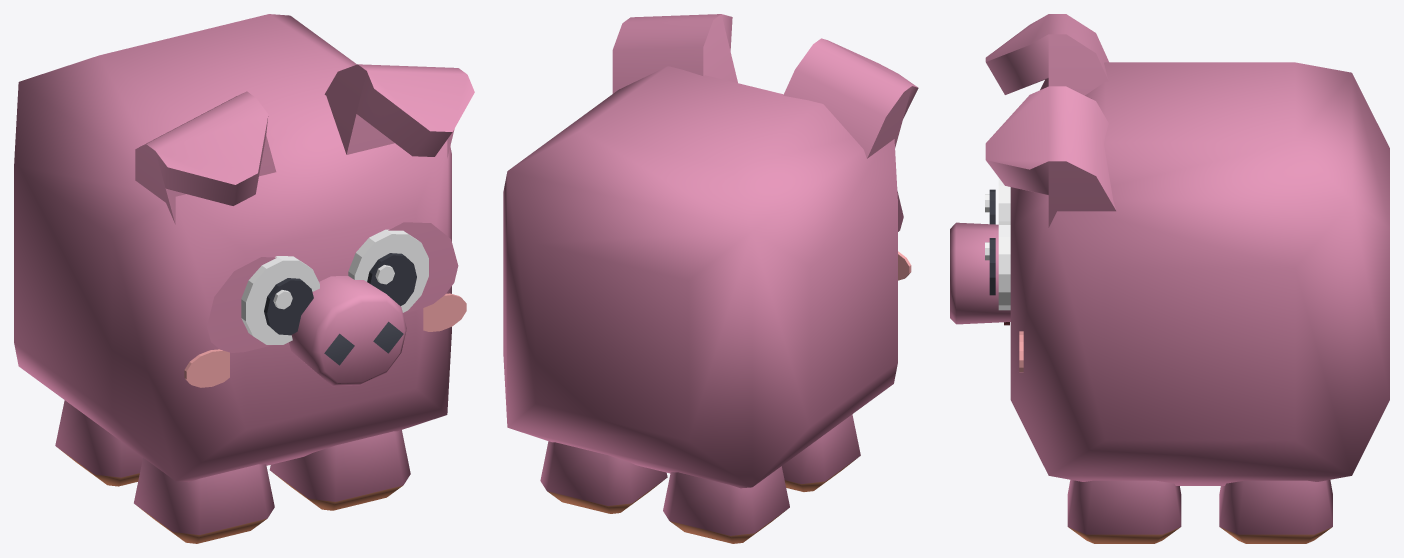
File: pig.glb
3 views of the same model, side by side, from view 1: azimuth 30°, elevation 25°; view 2: azimuth 150°, elevation 25°; view 3: azimuth 270°, elevation 25° (orthographic). The views are drawn at different scales.
Visible parts, largest first — view 1: body, Group, leg-front-right, leg-front-left, leg-back-right; view 2: body, leg-back-right, leg-back-left, leg-front-right; view 3: body, leg-front-left, leg-back-left, Group.
Boxes of the visible parts, box(x1,y1,x2,y2) form: body: box(14, 14, 474, 482); Group: box(289, 276, 406, 386); leg-front-right: box(134, 457, 274, 543); leg-front-left: box(269, 430, 410, 510); leg-back-right: box(55, 400, 142, 486); body: box(503, 14, 918, 488); leg-back-right: box(663, 466, 789, 543); leg-back-left: box(540, 441, 667, 513); leg-front-right: box(781, 414, 860, 491); body: box(985, 14, 1389, 485); leg-front-left: box(1067, 480, 1181, 543); leg-back-left: box(1219, 480, 1332, 543); Group: box(950, 222, 1010, 324).
Size of the model in its own units: 1.25 by 1.58 by 1.46.
1 material, 1 textured.
